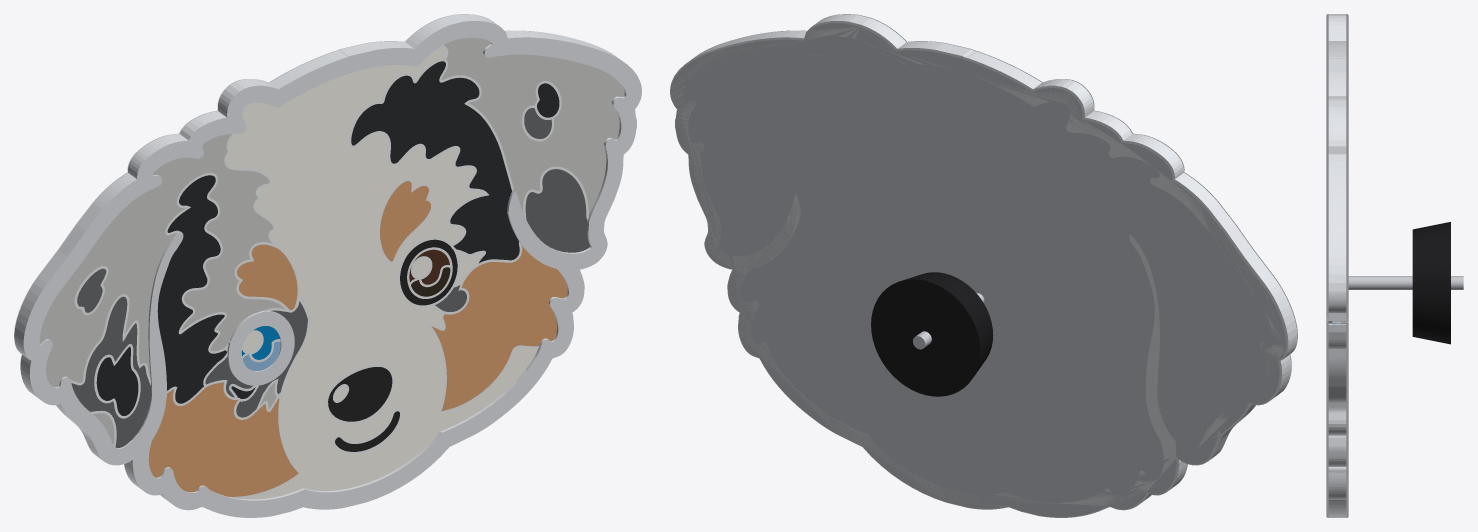
Rendered from aussie.glb.
The picture shows the model from 3 angles, left to right: view 1: azimuth 30°, elevation 25°; view 2: azimuth 150°, elevation 25°; view 3: azimuth 270°, elevation 25°; orthographic projection. The views are drawn at different scales.
Parts seen in each view (by area): view 1: enamel_02_st14, silver_border, enamel_17_st3, enamel_03_st3, enamel_08_st2, enamel_12_st5, enamel_18_st5, enamel_19_st7, enamel_09_st4, enamel_20_st4, enamel_22_st5, silver_line_1 (+12 smaller); view 2: base_plate, silver_border, rubber_clutch; view 3: silver_border, rubber_clutch, pin_post.
Part boxes in pixels (bbox=[...]): enamel_02_st14: bbox=[226, 47, 537, 499]; silver_border: bbox=[14, 14, 641, 517]; enamel_17_st3: bbox=[39, 134, 284, 387]; enamel_03_st3: bbox=[441, 37, 624, 215]; enamel_08_st2: bbox=[351, 61, 519, 262]; enamel_12_st5: bbox=[431, 245, 567, 411]; enamel_18_st5: bbox=[148, 382, 298, 496]; enamel_19_st7: bbox=[157, 175, 227, 403]; enamel_09_st4: bbox=[525, 169, 589, 252]; enamel_20_st4: bbox=[71, 296, 150, 447]; enamel_22_st5: bbox=[237, 244, 297, 309]; silver_line_1: bbox=[227, 310, 294, 385]; base_plate: bbox=[670, 23, 1285, 517]; silver_border: bbox=[670, 14, 1297, 517]; rubber_clutch: bbox=[871, 272, 993, 396]; silver_border: bbox=[1326, 14, 1348, 517]; rubber_clutch: bbox=[1412, 222, 1450, 344]; pin_post: bbox=[1348, 276, 1463, 289].
Bounding box in the file's own units: 0.0543 × 0.0383 × 0.0107.
